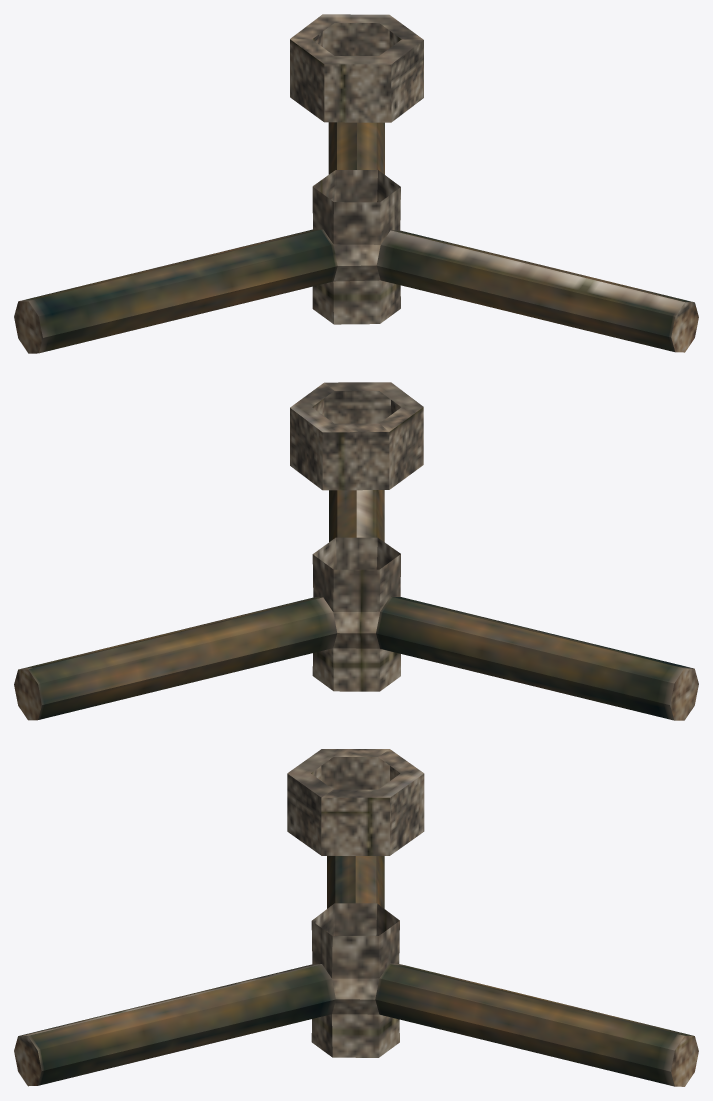
The model's file is m_reel_2_spinpart.fbx.
3 renders of one model, top to bottom at view 1: azimuth 30°, elevation 25°; view 2: azimuth 150°, elevation 25°; view 3: azimuth 270°, elevation 25°, orthographic.
Visible parts, largest first — view 1: Cylinder.001, Cylinder.002; view 2: Cylinder.001, Cylinder.002; view 3: Cylinder.001, Cylinder.002.
Part boxes in pixels (<box>): Cylinder.001: <box>14,122,698,353</box>; Cylinder.002: <box>290,14,423,122</box>; Cylinder.001: <box>14,490,698,720</box>; Cylinder.002: <box>290,382,423,490</box>; Cylinder.001: <box>14,856,698,1086</box>; Cylinder.002: <box>287,749,424,855</box>.
Bounding box in the file's own units: 554 × 277 × 639.
